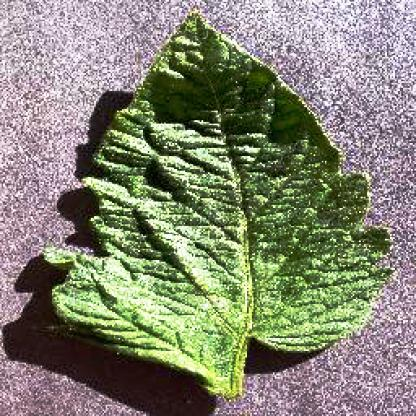Healthy: (39, 7, 393, 398)
